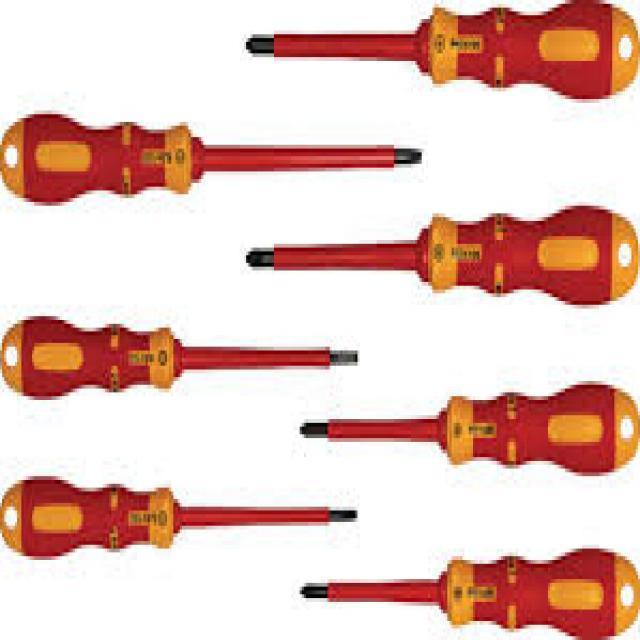screwdriver: (0, 108, 428, 212), (244, 202, 640, 312), (244, 0, 640, 103), (0, 465, 368, 560), (293, 381, 640, 480), (0, 314, 370, 405), (297, 548, 640, 640)
